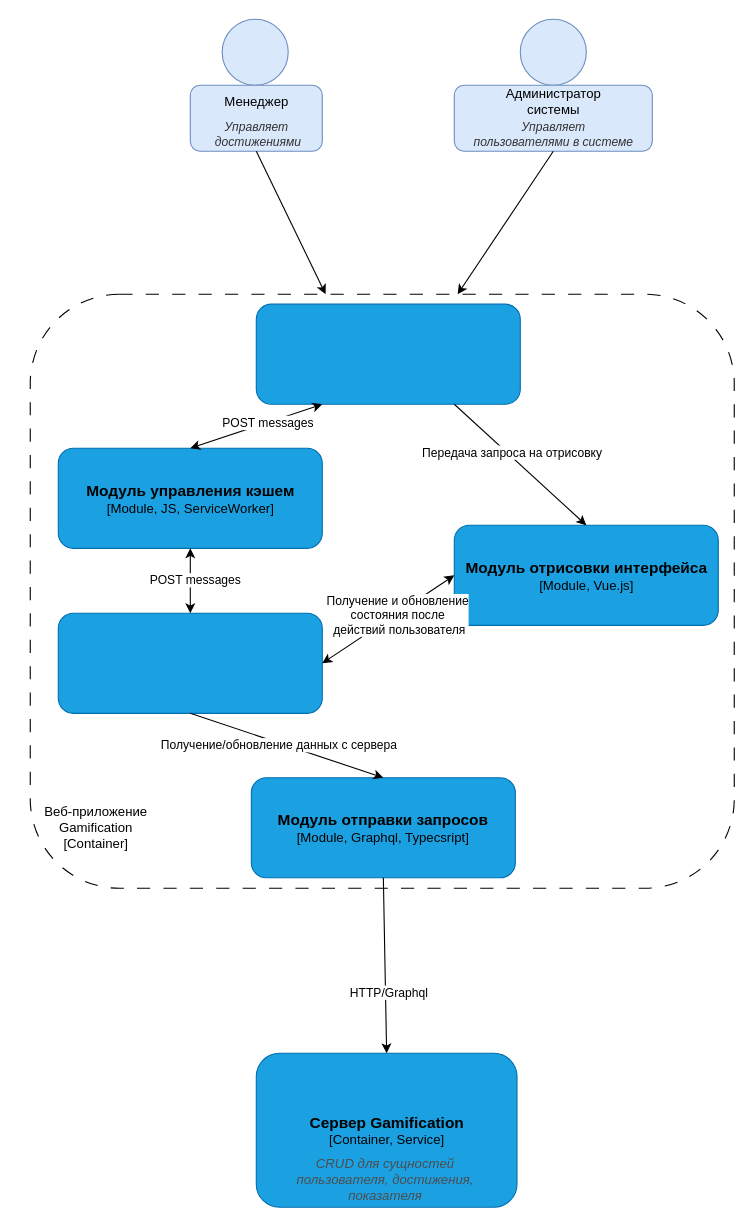
The diagram is 754 pixels wide and 1227 high, and some of its shapes have lost their labels. Each missing label, with the box of its shape:
Модуль обработки и роутинга запросов [Module, Express, Vue.js]: (255, 303, 520, 404)
Модуль управления состоянием [Module, Pinia]: (57, 612, 322, 713)
